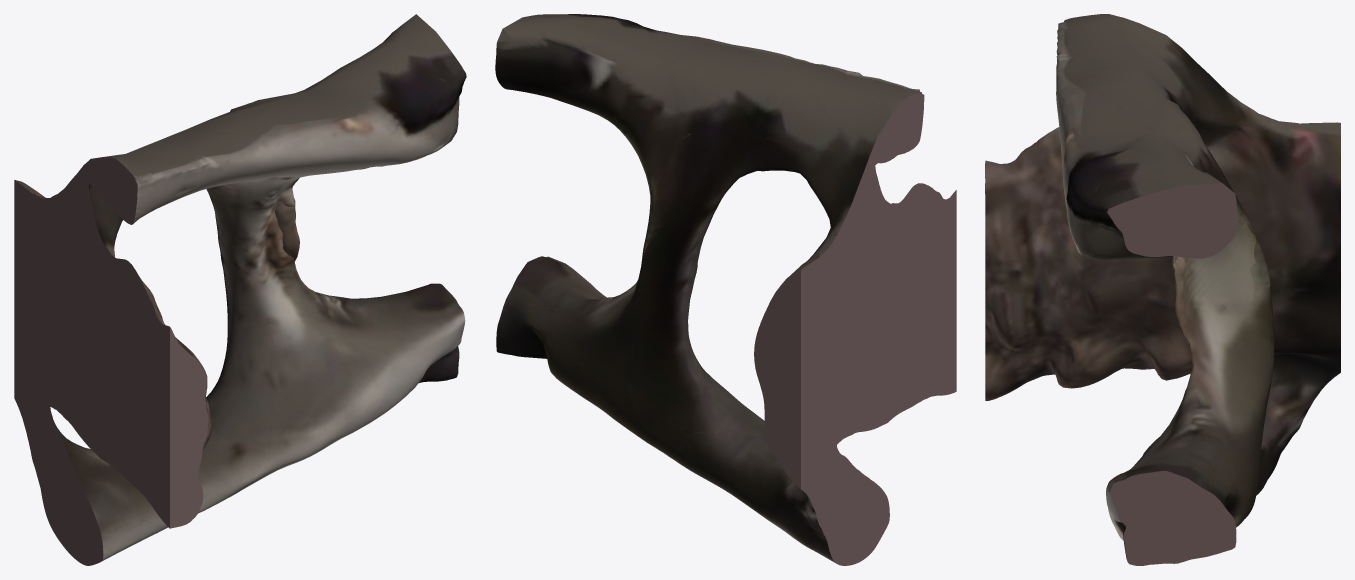
File: rear_brace_edit2.glb
The picture shows the model from 3 angles, left to right: view 1: azimuth 30°, elevation 25°; view 2: azimuth 150°, elevation 25°; view 3: azimuth 270°, elevation 25°; orthographic projection. The views are drawn at different scales.
Parts seen in each view (by area): view 1: 3DModel_Display; view 2: 3DModel_Display; view 3: 3DModel_Display.
Part boxes in pixels (x1,y1,x2,y2): 3DModel_Display: [14, 14, 466, 565]; 3DModel_Display: [495, 14, 956, 565]; 3DModel_Display: [985, 14, 1340, 565].
Size of the model in its own units: 0.2859 by 0.3549 by 0.2201.
Materials: 1 (1 with a texture image).
